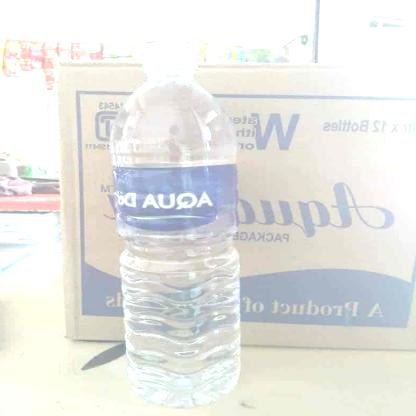bottle: (107, 32, 244, 408)
